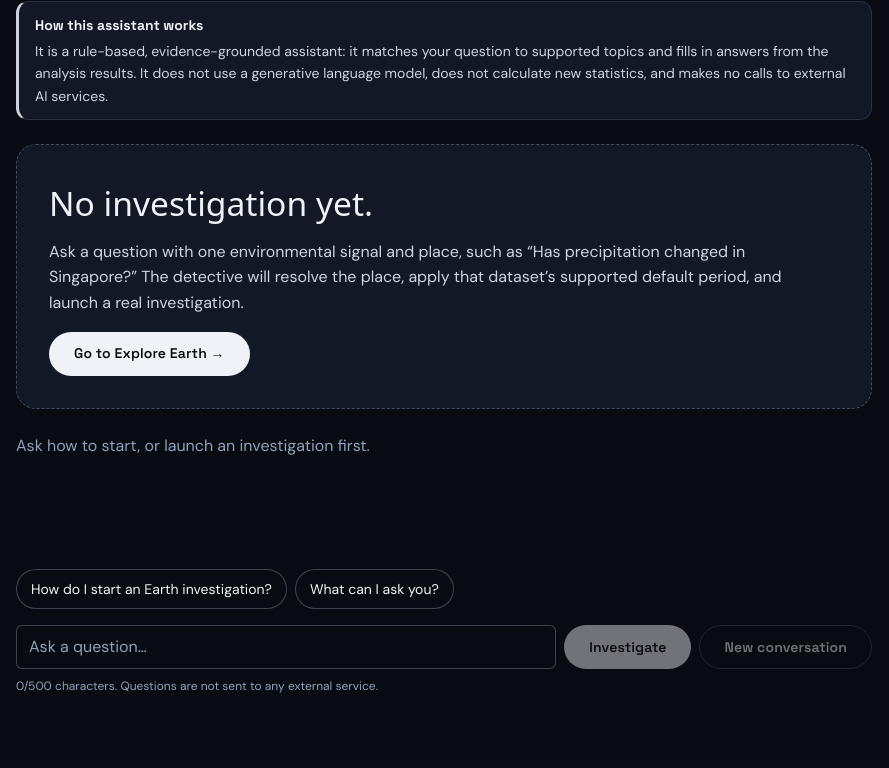
Scenario: Detective page › guides the user when no investigation exists
The width and height of the screenshot is (889, 768).
(page scrolled)
Expected: the heading "No investigation yet." is shown, [49,180,373,226]
Step 1. Click the button "How do I start an Earth investigation?" → (151,589), box [16,569,287,609]
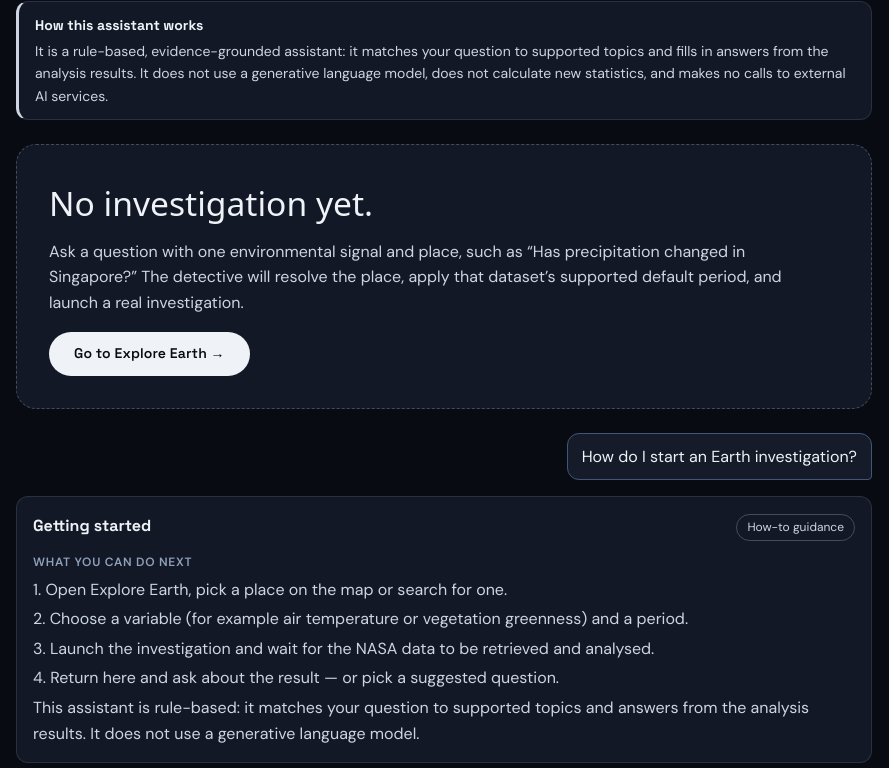
Now the text "Open Explore Earth" is shown, box [33,579,507,600]
